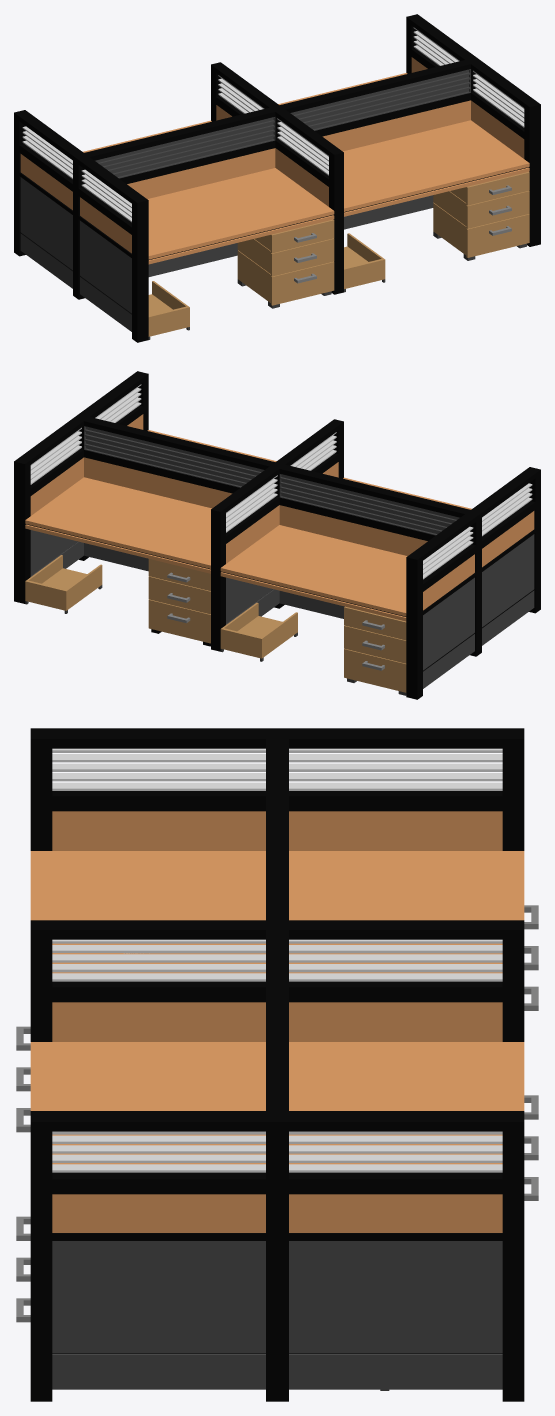
The model's file is Meja.fbx.
3 views of the same model, one above another, from view 1: azimuth 30°, elevation 25°; view 2: azimuth 150°, elevation 25°; view 3: azimuth 270°, elevation 25° (orthographic). The views are drawn at different scales.
Parts seen in each view (by area): view 1: Meja kantor; view 2: Meja kantor; view 3: Meja kantor.
Part boxes in pixels (x1,y1,x2,y2): Meja kantor: (14, 14, 540, 342); Meja kantor: (14, 371, 540, 699); Meja kantor: (16, 728, 538, 1401).
Bounding box in the file's own units: 453 × 150 × 254.
